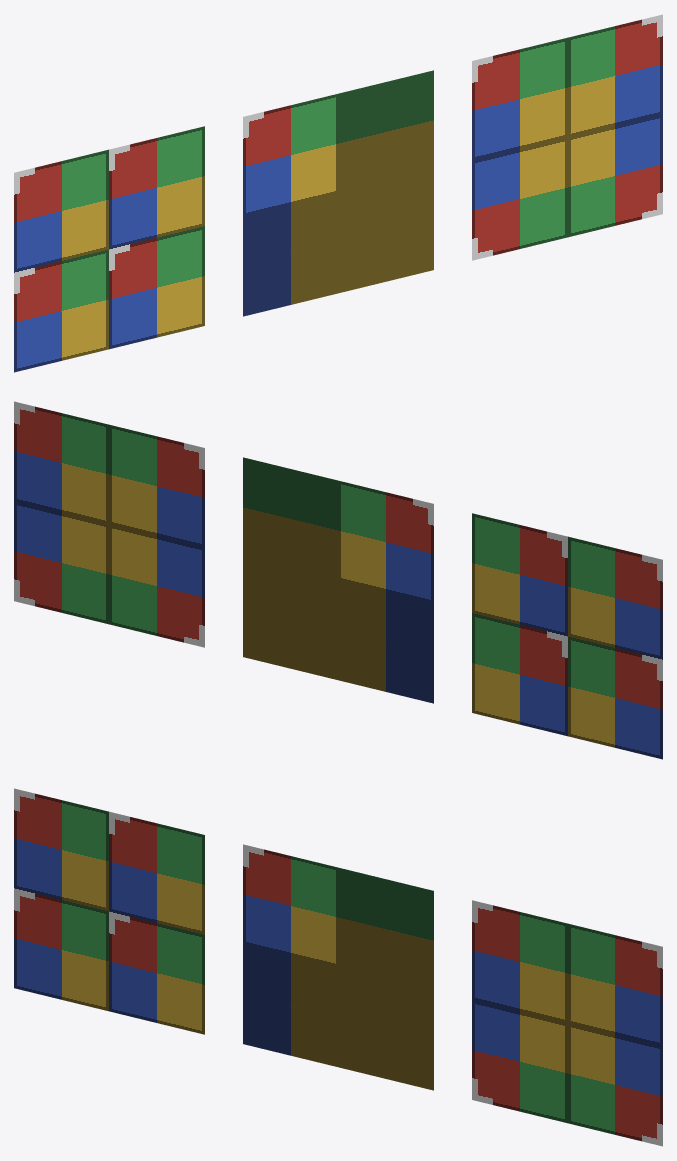
Rendered from wrapquads.gltf.
3 renders of one model, top to bottom at view 1: azimuth 30°, elevation 25°; view 2: azimuth 150°, elevation 25°; view 3: azimuth 330°, elevation 25°, orthographic.
Visible parts, largest first — view 1: repeat, mirror, clamp; view 2: repeat, mirror, clamp; view 3: repeat, mirror, clamp.
Boxes of the visible parts, <box> form: repeat: <box>14,126,204,372</box>; mirror: <box>472,14,662,260</box>; clamp: <box>243,70,433,316</box>; repeat: <box>472,513,662,759</box>; mirror: <box>14,401,204,647</box>; clamp: <box>243,457,433,703</box>; repeat: <box>14,788,204,1034</box>; mirror: <box>472,900,662,1146</box>; clamp: <box>243,844,433,1090</box>.
Size of the model in its own units: 3.4 by 1 by 0.
Materials: 3 (3 with a texture image).
